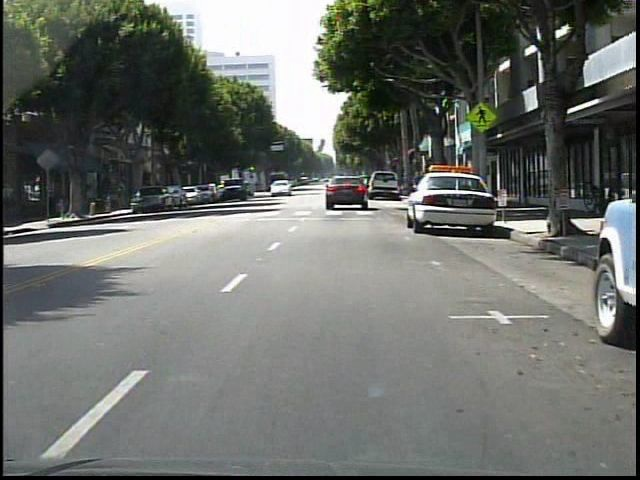person: (3, 179, 20, 228)
